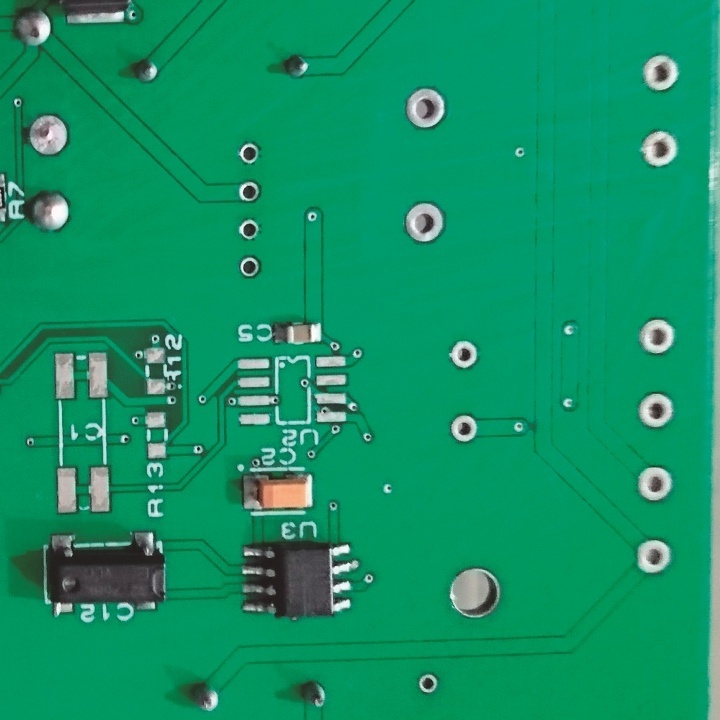F: (25, 111, 73, 159), (400, 199, 448, 246), (403, 84, 450, 132), (636, 315, 675, 359), (641, 52, 681, 93), (638, 128, 677, 169), (637, 463, 674, 506), (635, 537, 672, 576), (638, 391, 673, 432), (448, 340, 479, 372), (449, 412, 476, 446), (236, 252, 265, 279), (238, 136, 262, 166), (237, 216, 260, 245), (238, 178, 262, 204), (419, 672, 439, 695)
